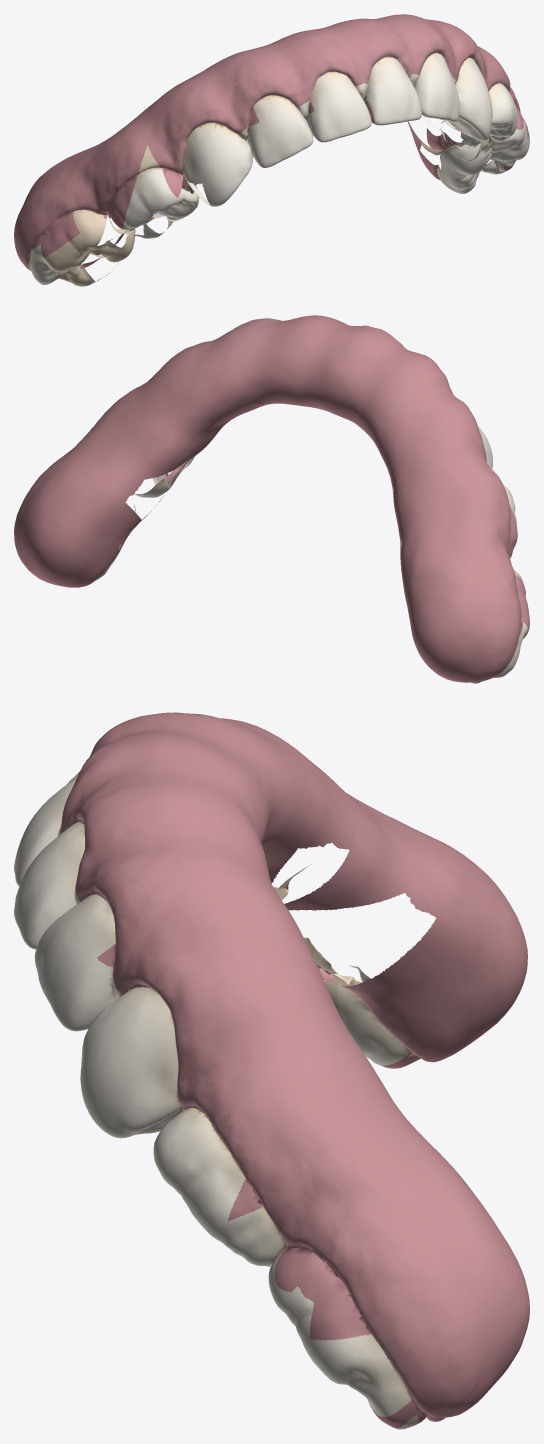
Rendered from arcada_temporal_superior_lite.glb.
The picture shows the model from 3 angles, top to bottom: view 1: azimuth 30°, elevation 25°; view 2: azimuth 150°, elevation 25°; view 3: azimuth 270°, elevation 25°; orthographic projection. The views are drawn at different scales.
Visible parts, largest first — view 1: mesh_node; view 2: mesh_node; view 3: mesh_node.
Part boxes in pixels (x1,y1,x2,y2): mesh_node: (14, 14, 529, 286); mesh_node: (14, 315, 529, 683); mesh_node: (14, 712, 529, 1429).
Size of the model in its own units: 1.9 by 0.9393 by 0.9244.
